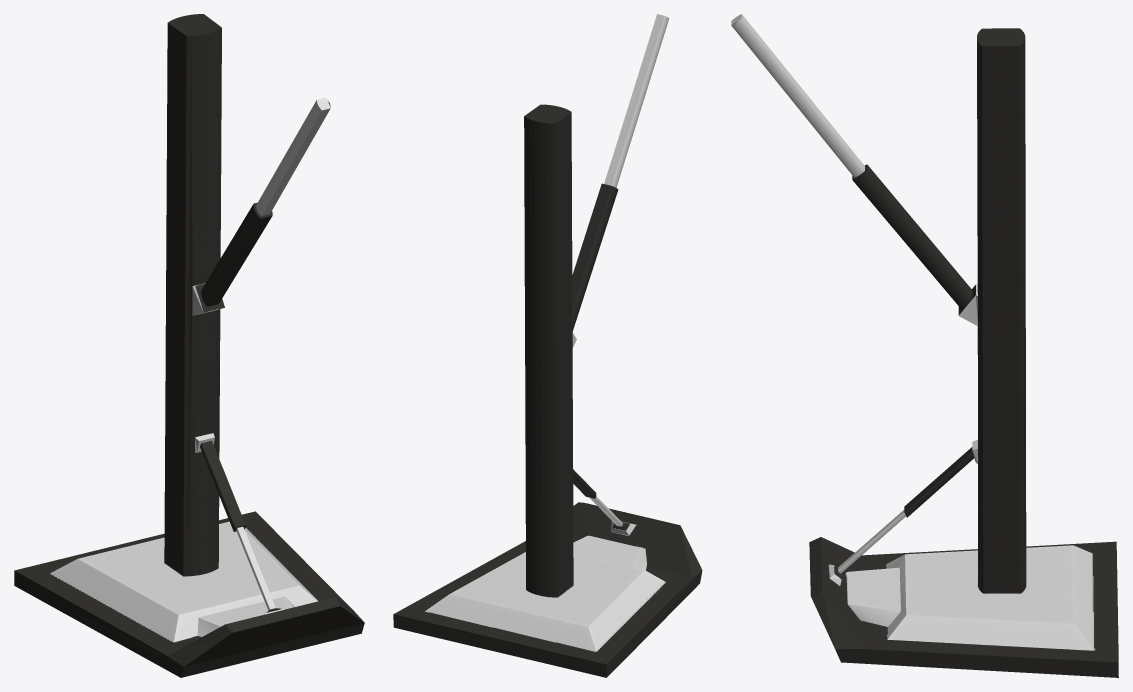
Rendered from Foot Front.obj.
3 views of the same model, side by side, from view 1: azimuth 30°, elevation 25°; view 2: azimuth 150°, elevation 25°; view 3: azimuth 270°, elevation 25° (orthographic). The views are drawn at different scales.
Visible parts, largest first — view 1: Object011; view 2: Object011; view 3: Object011.
Boxes of the visible parts, x1,y1,x2,y2 form: Object011: (14,14,364,677); Object011: (393,14,702,677); Object011: (731,14,1118,677).
Size of the model in its own units: 32.72 by 76.48 by 44.6.
1 material, 1 textured.
